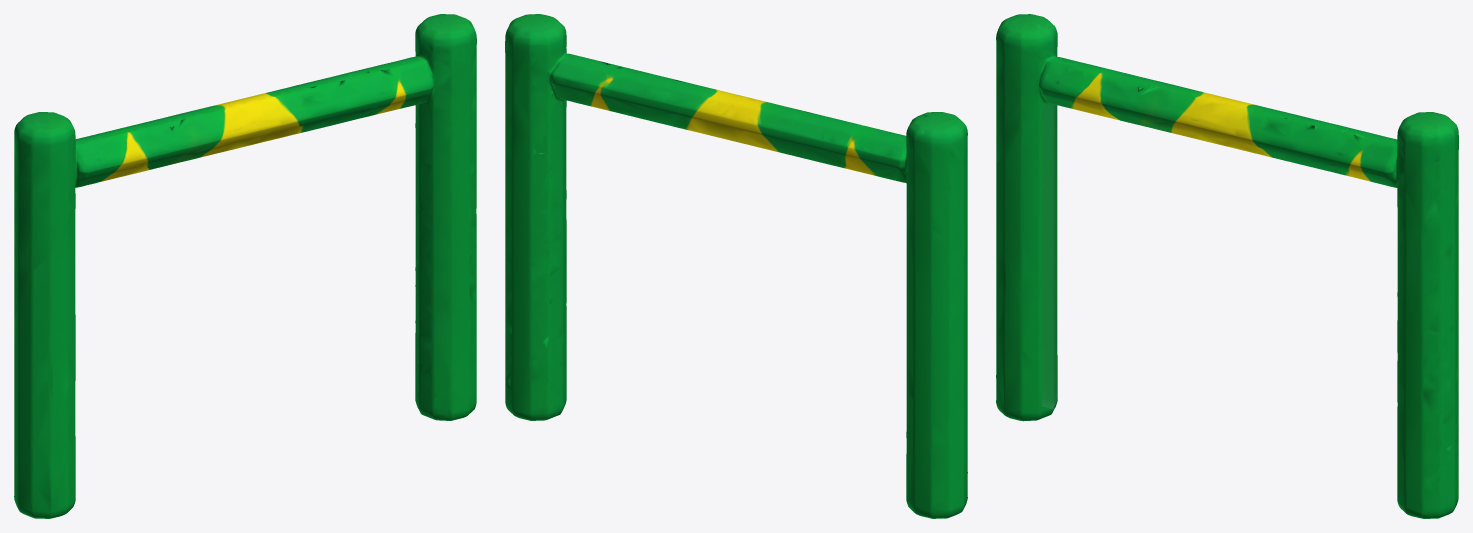
File: obstacle_hurdleset.glb
3 renders of one model, left to right at view 1: azimuth 30°, elevation 25°; view 2: azimuth 150°, elevation 25°; view 3: azimuth 330°, elevation 25°, orthographic.
Visible parts, largest first — view 1: model; view 2: model; view 3: model.
Boxes of the visible parts, x1,y1,x2,y2 form: model: (14,14,476,518); model: (505,14,967,518); model: (996,14,1458,518).
Bounding box in the file's own units: 1.9 × 1.57 × 0.2098.
1 material, 1 textured.
